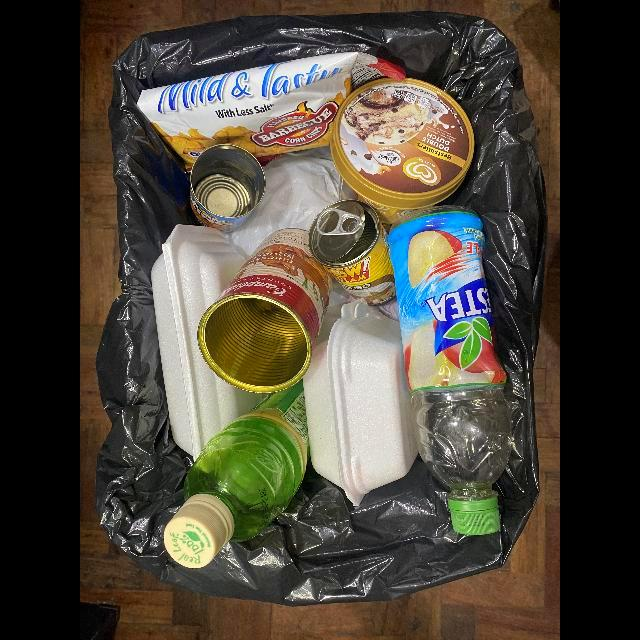aluminum: (198, 228, 333, 393), (309, 200, 399, 305), (190, 144, 265, 233)
food_wrapper: (136, 52, 406, 173)
plastic_bottle: (389, 206, 512, 535), (164, 378, 311, 568)
plastic_container: (330, 77, 476, 232)
